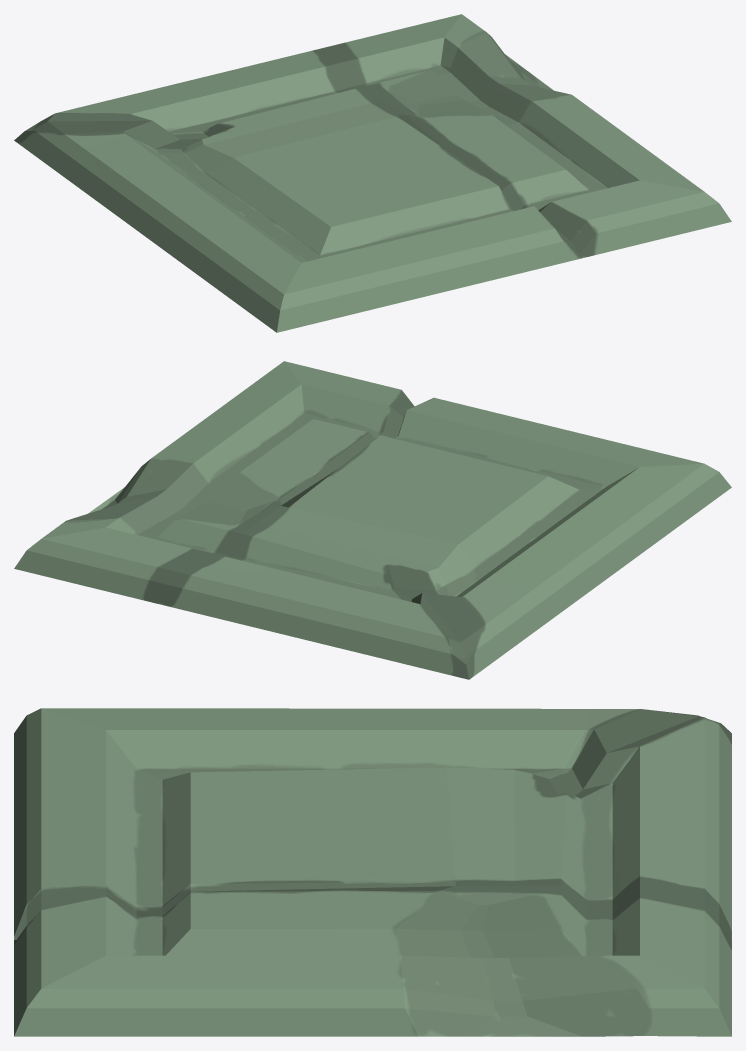
Rendered from floortile.fbx.
3 views of the same model, one above another, from view 1: azimuth 30°, elevation 25°; view 2: azimuth 150°, elevation 25°; view 3: azimuth 270°, elevation 25° (orthographic). The views are drawn at different scales.
Visible parts, largest first — view 1: floor_tle_Cube.349; view 2: floor_tle_Cube.349; view 3: floor_tle_Cube.349.
Part boxes in pixels (x1,y1,x2,y2): floor_tle_Cube.349: [14, 14, 731, 332]; floor_tle_Cube.349: [14, 361, 731, 679]; floor_tle_Cube.349: [14, 708, 731, 1036].
Size of the model in its own units: 200 by 13.88 by 200.
